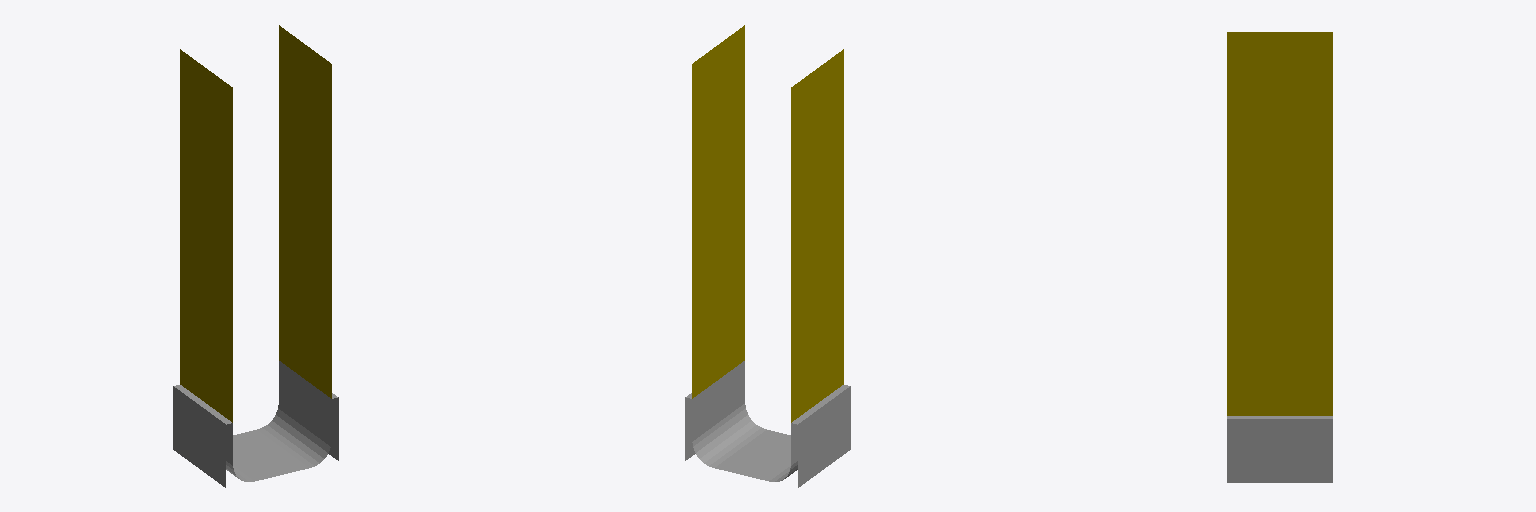
File: TrackPiece_Straight_Short.obj
The picture shows the model from 3 angles: view 1: azimuth 30°, elevation 25°; view 2: azimuth 150°, elevation 25°; view 3: azimuth 270°, elevation 25°; orthographic projection.
Visible parts, largest first — view 1: TrackPiece_Straight_Short_Cube.002; view 2: TrackPiece_Straight_Short_Cube.002; view 3: TrackPiece_Straight_Short_Cube.002.
Part boxes in pixels (x1,y1,x2,y2): TrackPiece_Straight_Short_Cube.002: (173, 25, 338, 487); TrackPiece_Straight_Short_Cube.002: (685, 25, 850, 487); TrackPiece_Straight_Short_Cube.002: (1227, 32, 1332, 482).
Bounding box in the file's own units: 7.36 × 25 × 6.